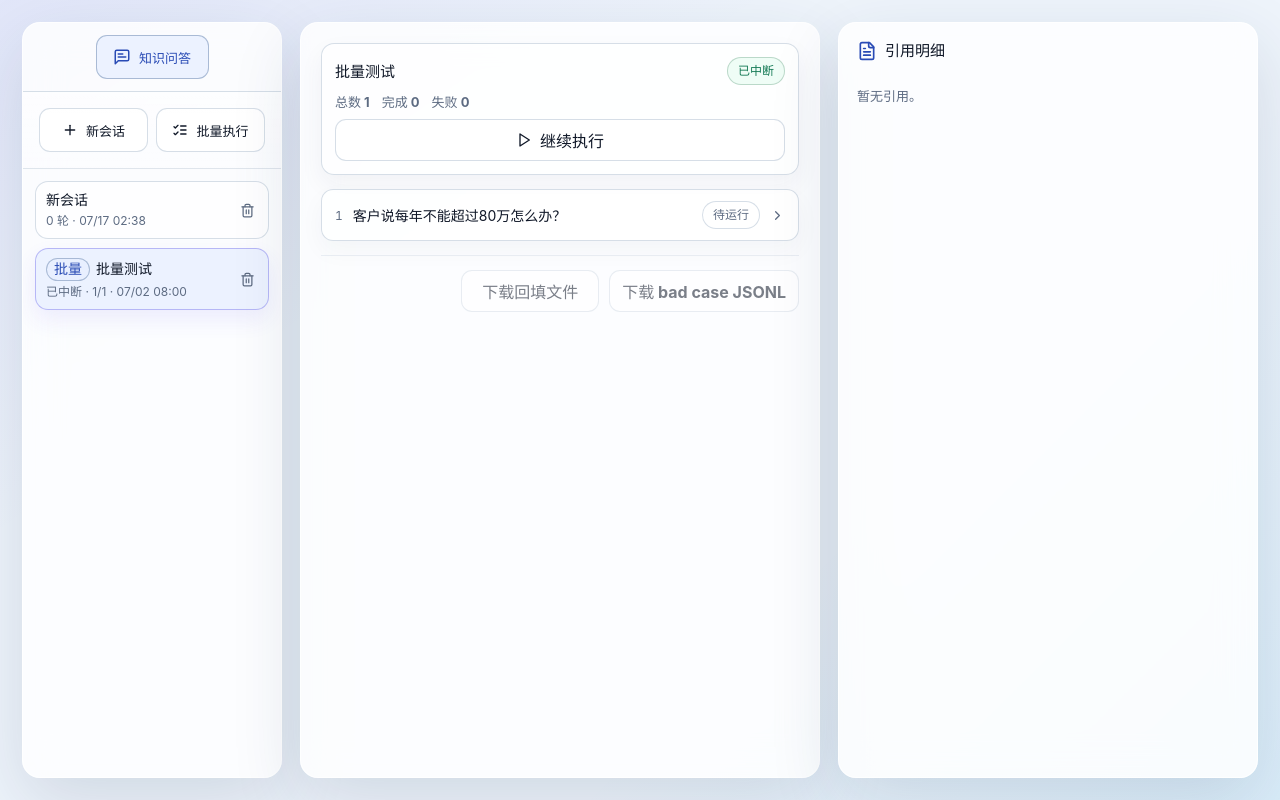
中断的批量会话支持继续执行
The image size is (1280, 800).
Expected: the text "已中断" is shown, top-left (727, 57), bottom-right (785, 85)
Click the button "继续执行".
click(560, 140)  # box top-left (335, 119), bottom-right (785, 161)
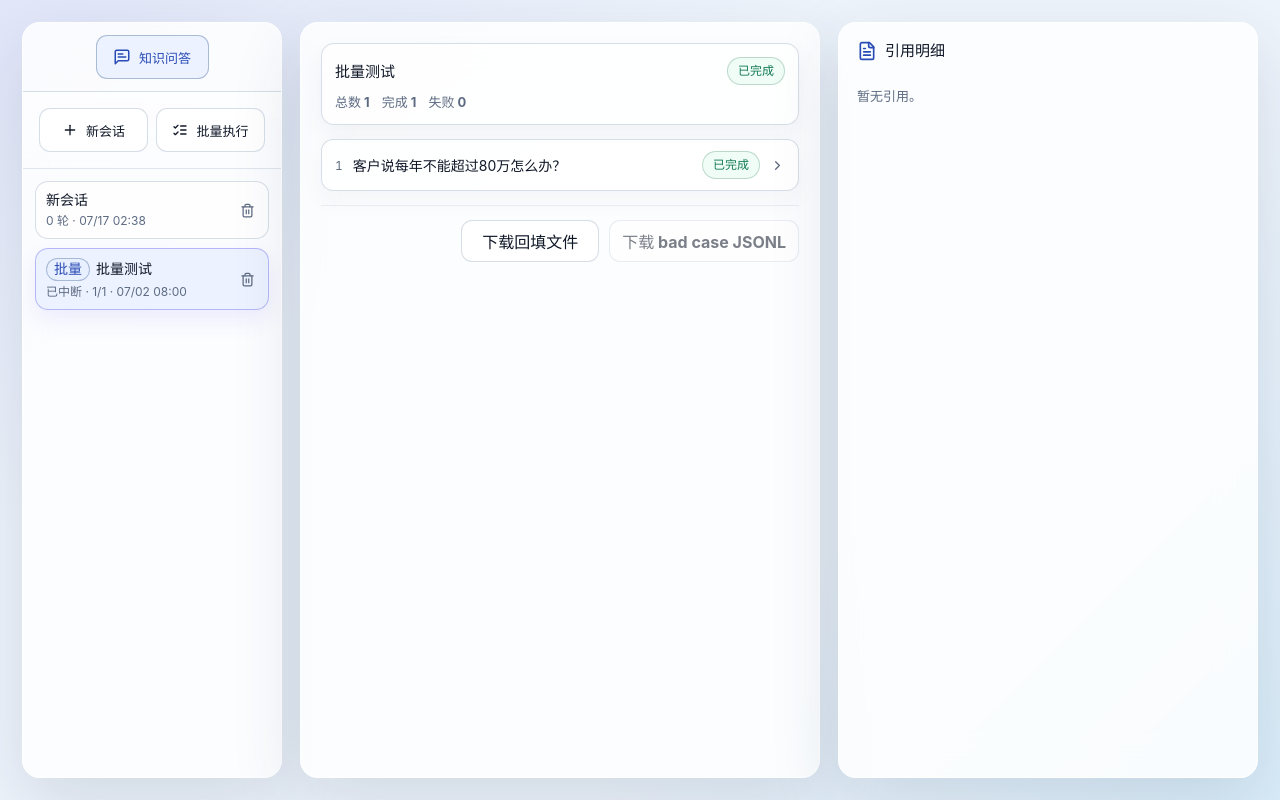
Now the text "完成 1" is shown, box top-left (382, 93), bottom-right (416, 111)
